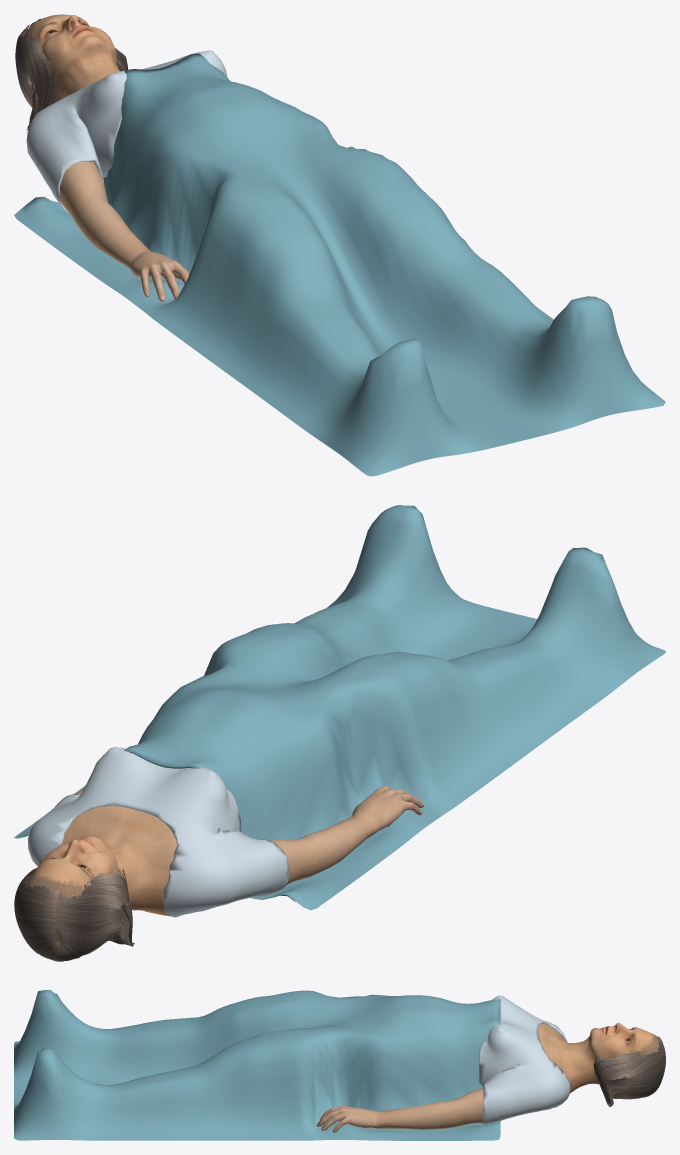
3 renders of one model, top to bottom at view 1: azimuth 30°, elevation 25°; view 2: azimuth 150°, elevation 25°; view 3: azimuth 270°, elevation 25°, orthographic. The views are drawn at different scales.
Visible parts, largest first — view 1: sheet, gown, arms, body, hair; view 2: sheet, gown, body, hair, arms; view 3: sheet, gown, body, arms, hair.
Boxes of the visible parts, x1=… form: sheet: x1=14, y1=53, x2=665, y2=476; gown: x1=26, y1=50, x2=227, y2=211; arms: x1=59, y1=161, x2=188, y2=301; body: x1=24, y1=14, x2=120, y2=106; hair: x1=15, y1=18, x2=127, y2=130; sheet: x1=14, y1=505, x2=665, y2=910; gown: x1=28, y1=747, x2=289, y2=917; body: x1=25, y1=805, x2=176, y2=952; hair: x1=14, y1=867, x2=134, y2=961; arms: x1=74, y1=785, x2=423, y2=885; sheet: x1=14, y1=990, x2=500, y2=1140; gown: x1=479, y1=995, x2=570, y2=1124; body: x1=538, y1=1022, x2=659, y2=1093; arms: x1=316, y1=1088, x2=483, y2=1132; hair: x1=593, y1=1036, x2=665, y2=1106.
Size of the model in its own units: 0.6407 by 0.2661 by 1.77.
Materials: 8 (6 with a texture image).
